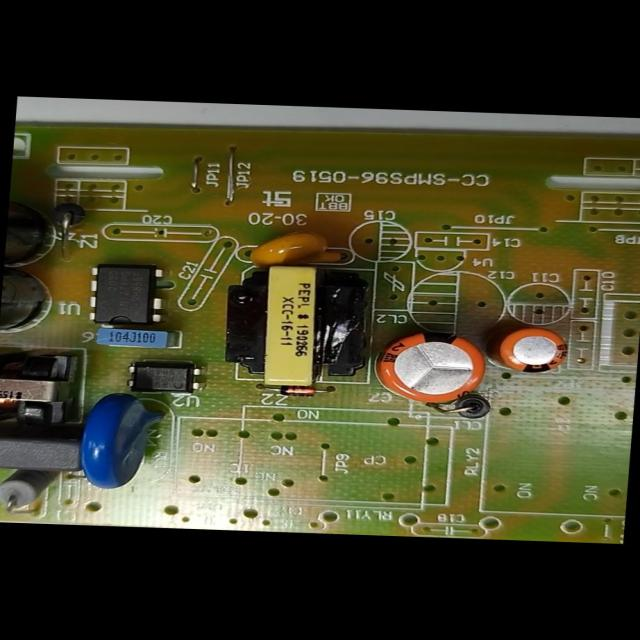Cap1: (364, 322, 503, 409)
Cap2: (484, 318, 577, 376)
Cap3: (0, 257, 59, 347)
Cap4: (3, 190, 78, 274)
MOSFET: (78, 258, 174, 330)
Mov: (64, 388, 178, 493)
Resistor: (0, 463, 66, 519)
Transformer: (214, 255, 378, 391), (0, 344, 90, 446)
